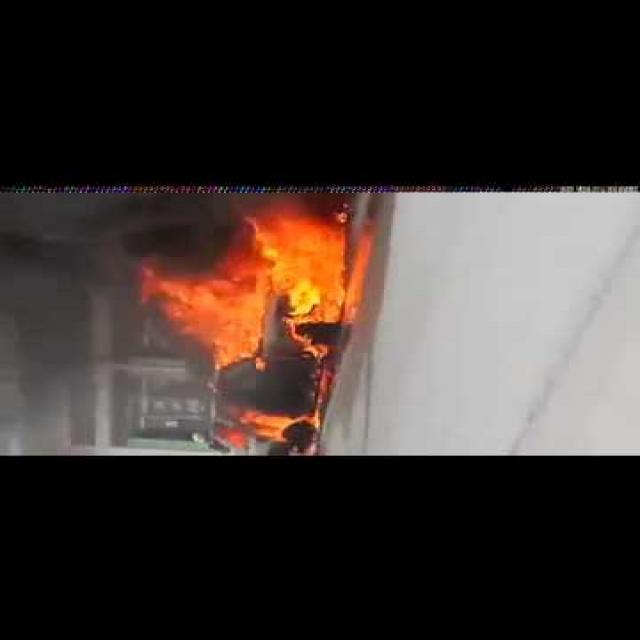Fire: (126, 209, 356, 447)
